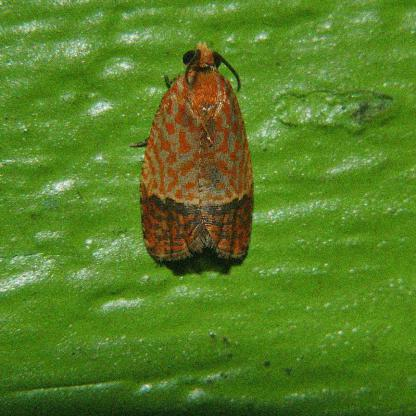Leaf Webber: (134, 44, 259, 269)
